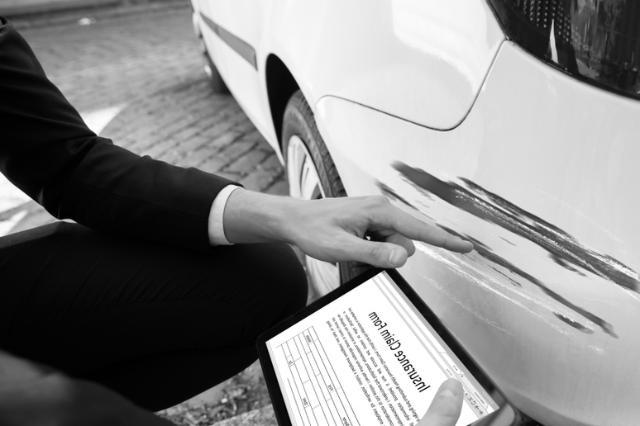Door: (358, 127, 640, 338)
